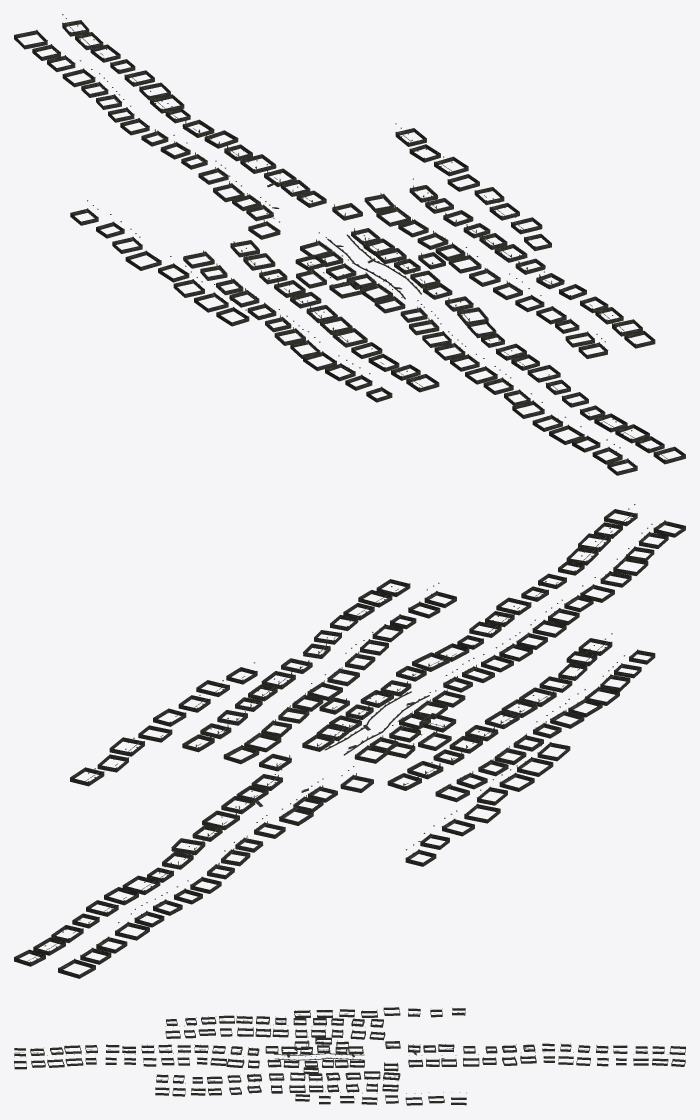
Rendered from canal_masonry.glb.
3 renders of one model, top to bottom at view 1: azimuth 30°, elevation 25°; view 2: azimuth 150°, elevation 25°; view 3: azimuth 270°, elevation 25°, orthographic. The views are drawn at different scales.
Visible parts, largest first — view 1: canal_masonry2, canal_masonry6, canal_masonry3, canal_masonry4, canal_masonry5, canal_masonry1, canal_masonry0; view 2: canal_masonry2, canal_masonry6, canal_masonry3, canal_masonry4, canal_masonry0, canal_masonry5, canal_masonry1; view 3: canal_masonry2, canal_masonry6, canal_masonry3, canal_masonry4, canal_masonry0, canal_masonry1, canal_masonry5.
Boxes of the visible parts, x1=… form: canal_masonry2: x1=181, y1=150, x2=685, y2=475; canal_masonry6: x1=70, y1=123, x2=655, y2=358; canal_masonry3: x1=14, y1=14, x2=287, y2=295; canal_masonry4: x1=229, y1=189, x2=439, y2=402; canal_masonry5: x1=376, y1=178, x2=527, y2=281; canal_masonry1: x1=232, y1=185, x2=452, y2=299; canal_masonry0: x1=300, y1=228, x2=427, y2=313; canal_masonry2: x1=202, y1=504, x2=685, y2=852; canal_masonry6: x1=70, y1=579, x2=570, y2=866; canal_masonry3: x1=14, y1=749, x2=508, y2=978; canal_masonry4: x1=198, y1=633, x2=655, y2=765; canal_masonry0: x1=302, y1=683, x2=465, y2=763; canal_masonry5: x1=182, y1=669, x2=342, y2=752; canal_masonry1: x1=251, y1=680, x2=456, y2=811; canal_masonry2: x1=14, y1=1044, x2=497, y2=1069; canal_masonry6: x1=155, y1=1007, x2=466, y2=1105; canal_masonry3: x1=331, y1=1018, x2=685, y2=1066; canal_masonry4: x1=165, y1=1015, x2=400, y2=1087; canal_masonry0: x1=265, y1=1044, x2=364, y2=1067; canal_masonry1: x1=267, y1=1036, x2=438, y2=1074; canal_masonry5: x1=270, y1=1071, x2=398, y2=1092.
Bounding box in the file's own units: 117 × 4.36 × 346.
1 material, 1 textured.
